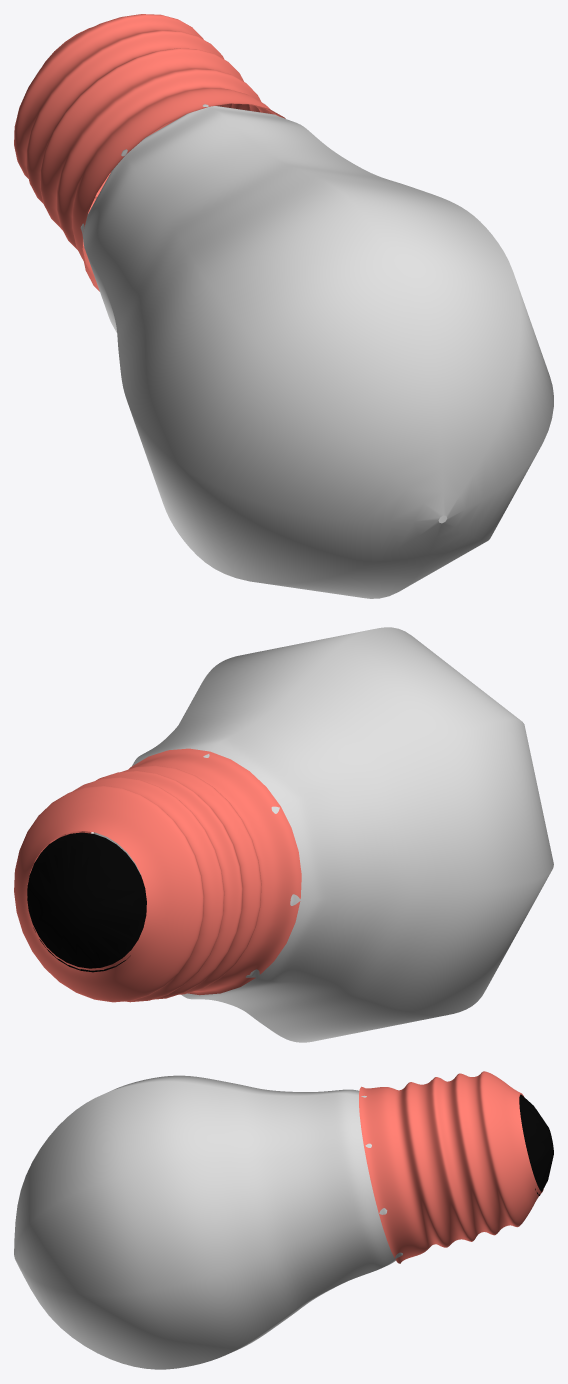
Rendered from Light.glb.
3 views of the same model, one above another, from view 1: azimuth 30°, elevation 25°; view 2: azimuth 150°, elevation 25°; view 3: azimuth 270°, elevation 25° (orthographic). The views are drawn at different scales.
Visible parts, largest first — view 1: Plane.002, Plane.003; view 2: Plane.002, Plane.003, Plane.006; view 3: Plane.002, Plane.003, Plane.006.
Boxes of the visible parts, x1=… form: Plane.002: x1=80, y1=104, x2=553, y2=598; Plane.003: x1=14, y1=14, x2=285, y2=291; Plane.002: x1=93, y1=627, x2=553, y2=1042; Plane.003: x1=14, y1=748, x2=301, y2=1002; Plane.006: x1=27, y1=832, x2=146, y2=972; Plane.002: x1=14, y1=1075, x2=402, y2=1369; Plane.003: x1=359, y1=1071, x2=543, y2=1263; Plane.006: x1=519, y1=1094, x2=553, y2=1195.
Size of the model in its own units: 0.8095 by 0.828 by 1.41.
